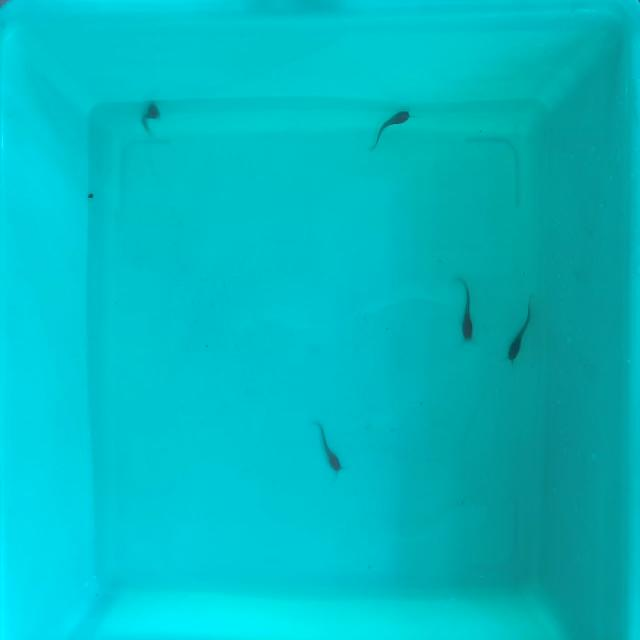lele: (506, 301, 538, 367), (367, 107, 413, 151), (311, 418, 346, 472), (458, 276, 478, 339), (140, 103, 160, 143)
